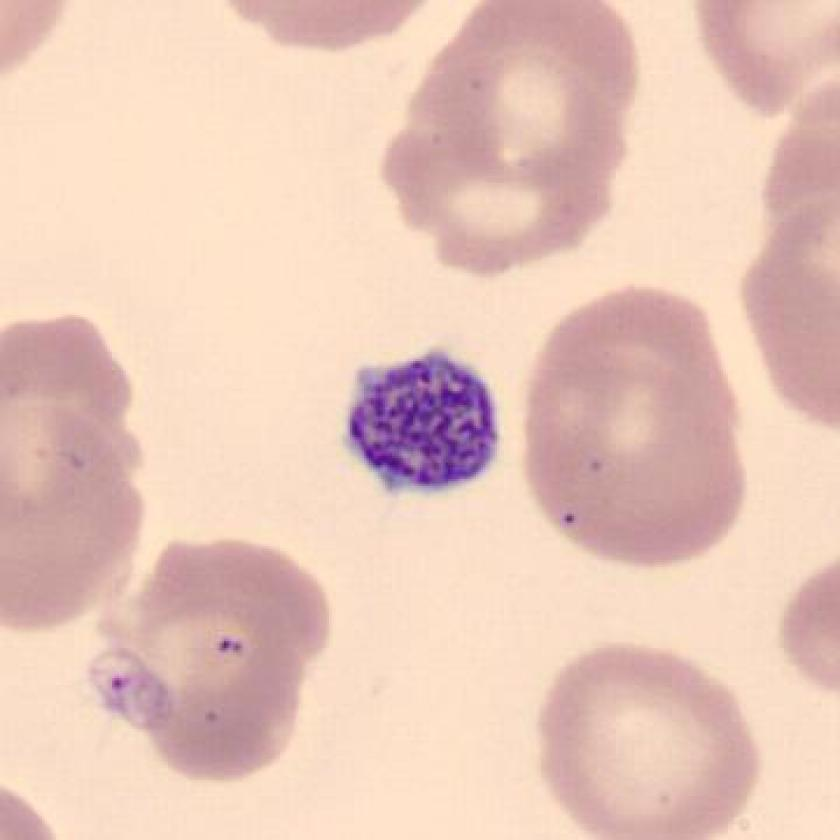platelets: (330, 334, 514, 515)
